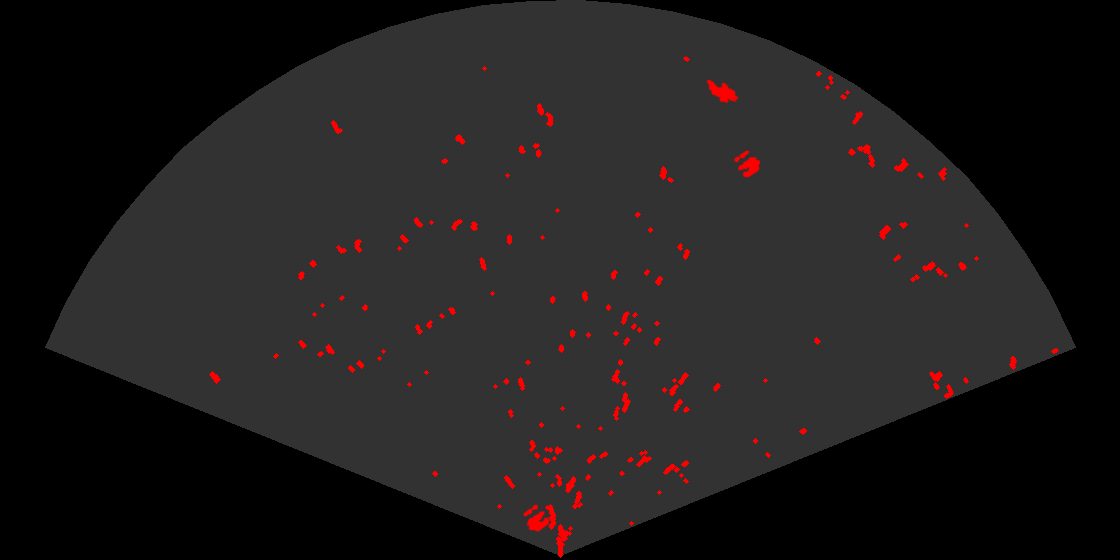AUV: (705, 78, 740, 105)
ball: (732, 149, 762, 179), (522, 503, 551, 533)
